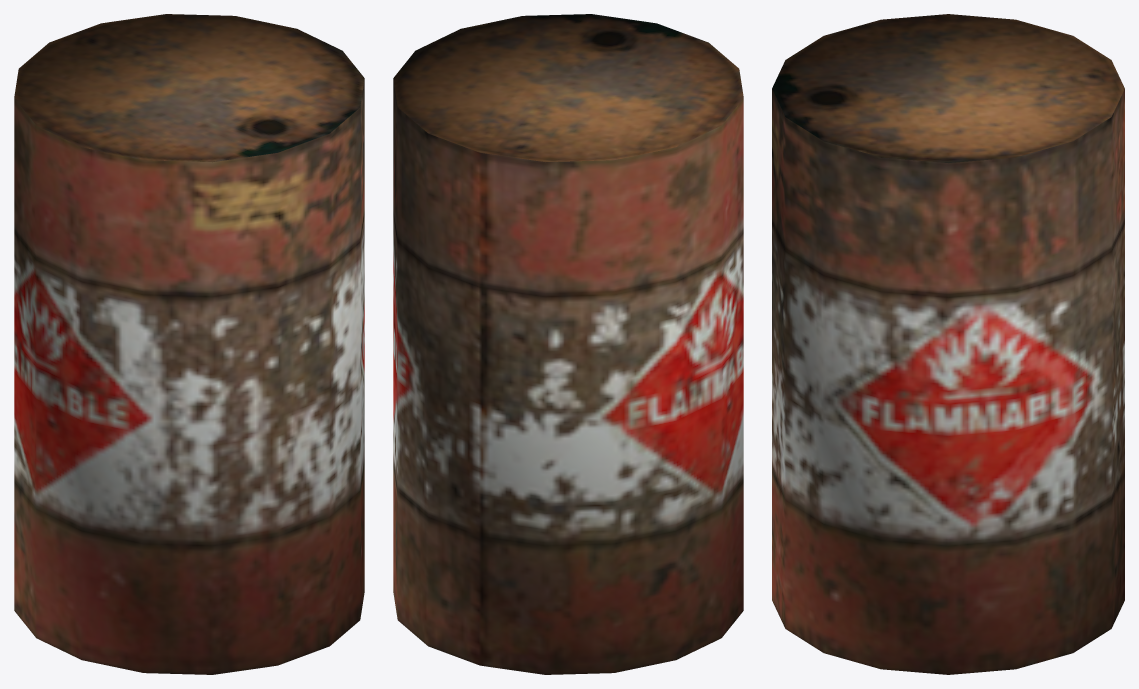
File: barrel.glb
3 views of the same model, side by side, from view 1: azimuth 30°, elevation 25°; view 2: azimuth 150°, elevation 25°; view 3: azimuth 270°, elevation 25° (orthographic).
Parts seen in each view (by area): view 1: Barrel_LOD 1; view 2: Barrel_LOD 1; view 3: Barrel_LOD 1.
Boxes of the visible parts, bbox=[...] form: Barrel_LOD 1: bbox=[14, 14, 364, 674]; Barrel_LOD 1: bbox=[393, 14, 743, 674]; Barrel_LOD 1: bbox=[772, 14, 1124, 674].
Bounding box in the file's own units: 1 × 1.6 × 1.
Materials: 1 (1 with a texture image).
